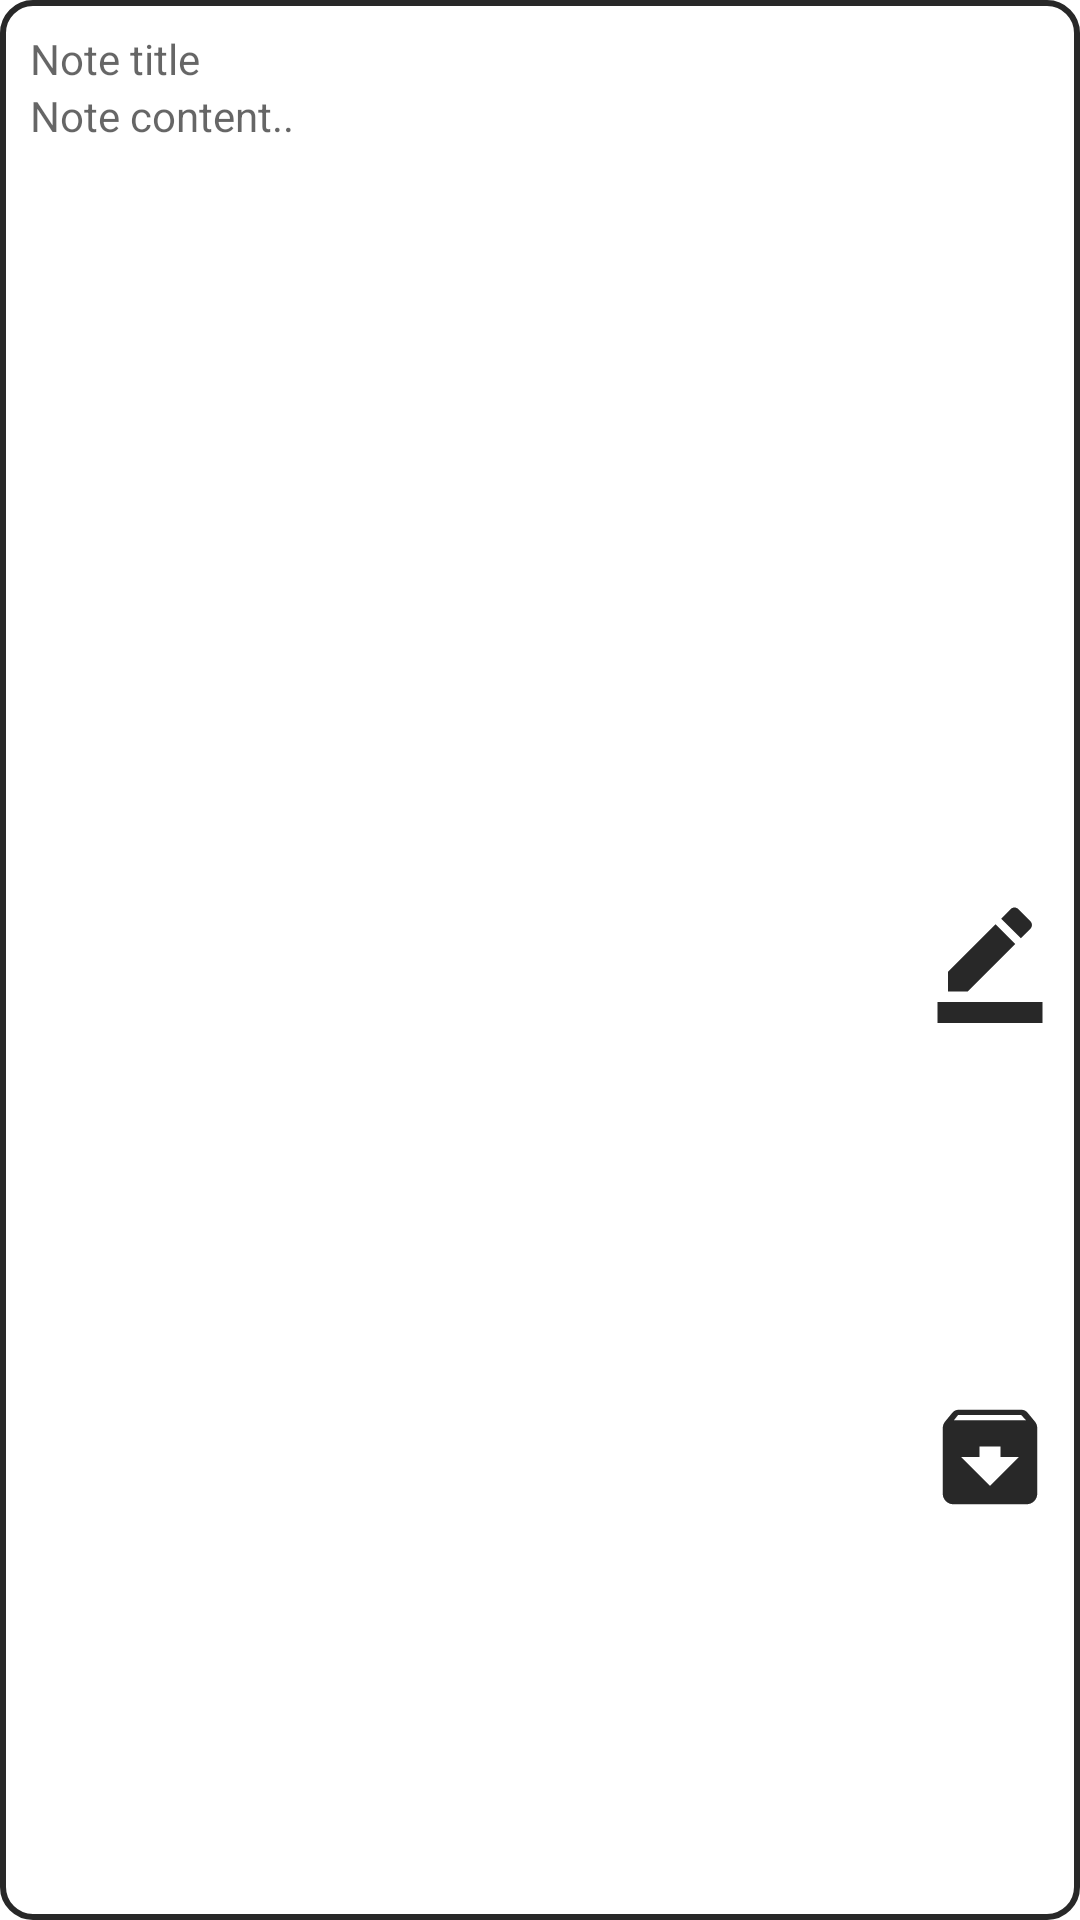

Screen size 1080 × 1920. Icon name, then its box in pixels as (x1, y1, x2, y2):
archive: (942, 1409, 1038, 1505)
pen: (937, 907, 1043, 1023)
